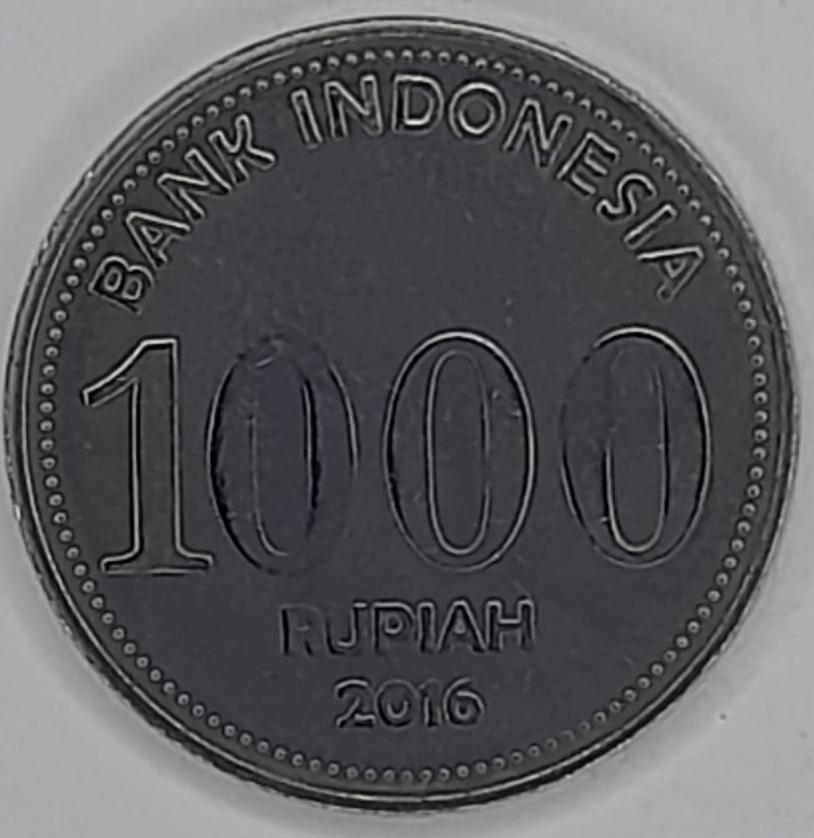coin_1000_e2016: (14, 17, 803, 838)
